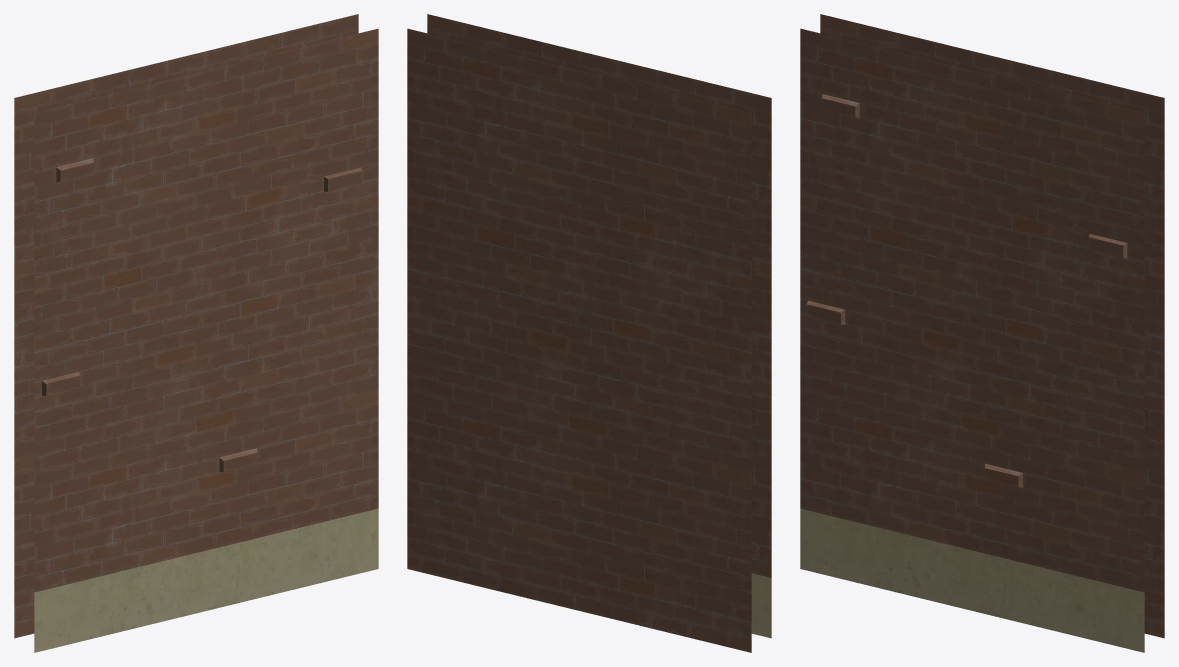
Rendered from Brick_BottomTrim.glb.
3 views of the same model, side by side, from view 1: azimuth 30°, elevation 25°; view 2: azimuth 150°, elevation 25°; view 3: azimuth 330°, elevation 25° (orthographic).
Parts seen in each view (by area): view 1: Brick_BottomTrim; view 2: Brick_BottomTrim; view 3: Brick_BottomTrim.
Boxes of the visible parts, left/top/right/bottom form: Brick_BottomTrim: left=14, top=14, right=378, bottom=652; Brick_BottomTrim: left=407, top=14, right=771, bottom=652; Brick_BottomTrim: left=800, top=14, right=1164, bottom=652.
Bounding box in the file's own units: 2 × 3 × 0.2289.
Materials: 2 (2 with a texture image).
